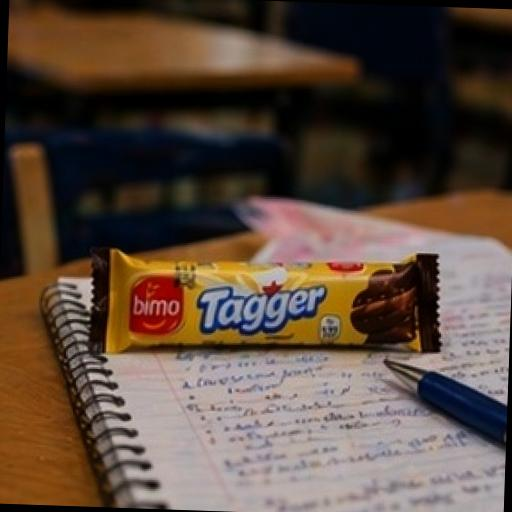tagger: (54, 160, 476, 442)
